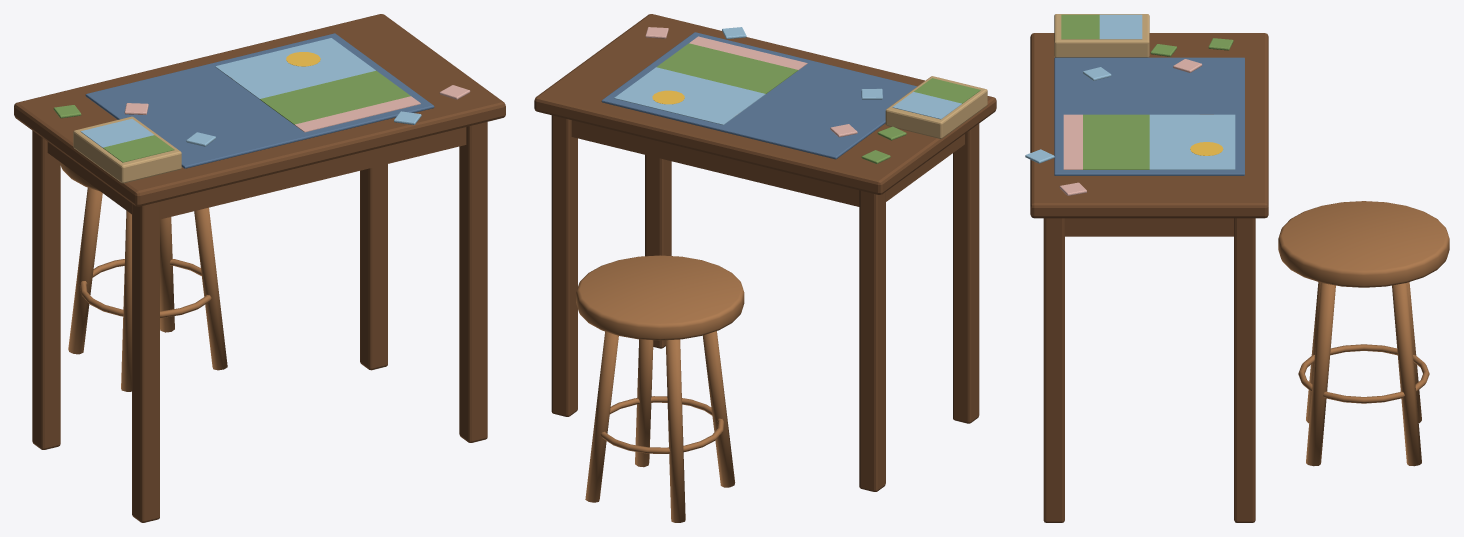
Rendered from puzzleTable.glb.
3 views of the same model, side by side, from view 1: azimuth 30°, elevation 25°; view 2: azimuth 150°, elevation 25°; view 3: azimuth 270°, elevation 25° (orthographic). The views are drawn at different scales.
Parts seen in each view (by area): view 1: body; view 2: body; view 3: body.
Part boxes in pixels (box(x1,y1,x2,y2)): body: box(14, 14, 505, 522); body: box(534, 14, 996, 522); body: box(1025, 14, 1449, 522).
Size of the model in its own units: 0.865 by 0.7937 by 0.8909.
